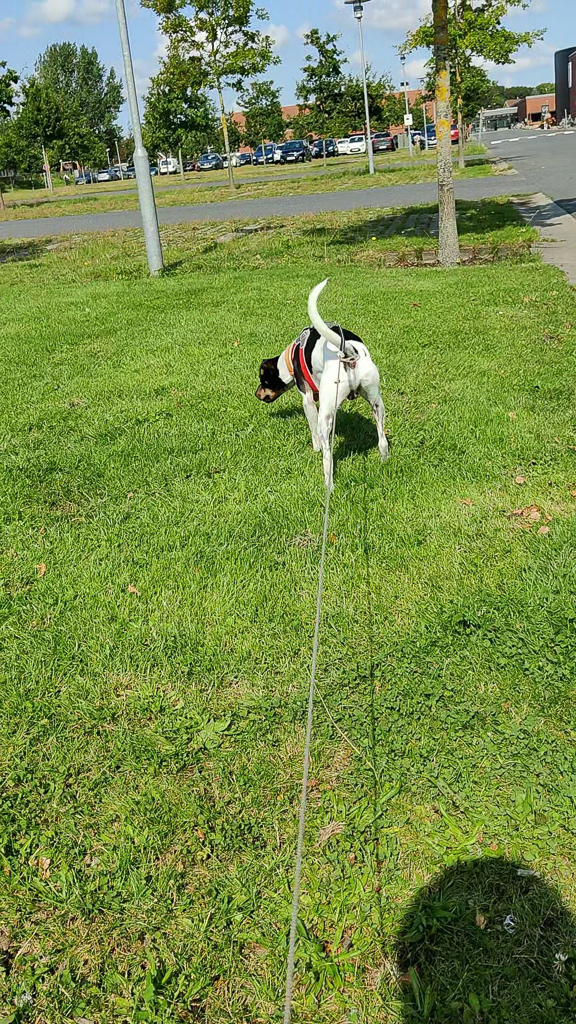Dog: (240, 269, 400, 508)
